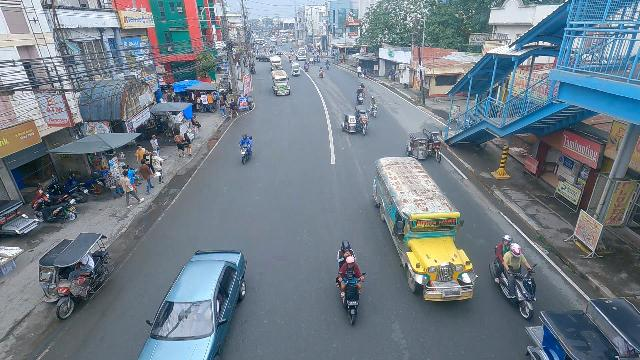car: (133, 249, 249, 360), (256, 54, 269, 61), (274, 48, 282, 55)
jeepney: (372, 154, 478, 307), (270, 71, 291, 98), (269, 55, 282, 71)
motorcycle: (487, 235, 537, 322), (332, 244, 367, 329), (237, 133, 254, 165), (369, 96, 380, 120), (355, 85, 364, 106), (358, 82, 366, 99), (303, 62, 309, 72), (319, 68, 324, 78), (325, 61, 330, 69), (289, 48, 294, 56)
truck: (296, 51, 307, 61)
